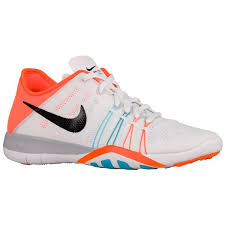nike: (22, 98, 88, 132)
